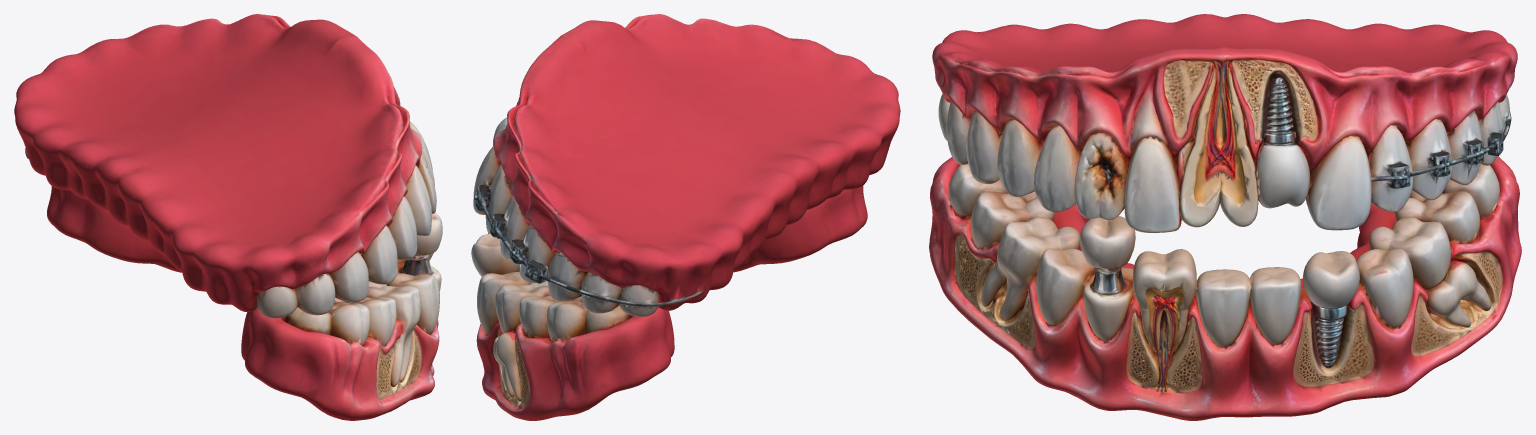
File: services.glb
3 views of the same model, side by side, from view 1: azimuth 30°, elevation 25°; view 2: azimuth 150°, elevation 25°; view 3: azimuth 270°, elevation 25° (orthographic). The views are drawn at different scales.
Parts seen in each view (by area): view 1: tripo_node_f589180a-967b-44ac-a1f8-47e5f854028c; view 2: tripo_node_f589180a-967b-44ac-a1f8-47e5f854028c; view 3: tripo_node_f589180a-967b-44ac-a1f8-47e5f854028c.
Boxes of the visible parts, x1=… form: tripo_node_f589180a-967b-44ac-a1f8-47e5f854028c: x1=14, y1=14, x2=442, y2=420; tripo_node_f589180a-967b-44ac-a1f8-47e5f854028c: x1=471, y1=14, x2=900, y2=420; tripo_node_f589180a-967b-44ac-a1f8-47e5f854028c: x1=929, y1=14, x2=1521, y2=420.
Bounding box in the file's own units: 0.6502 × 0.6388 × 0.9806.
Materials: 1 (1 with a texture image).
